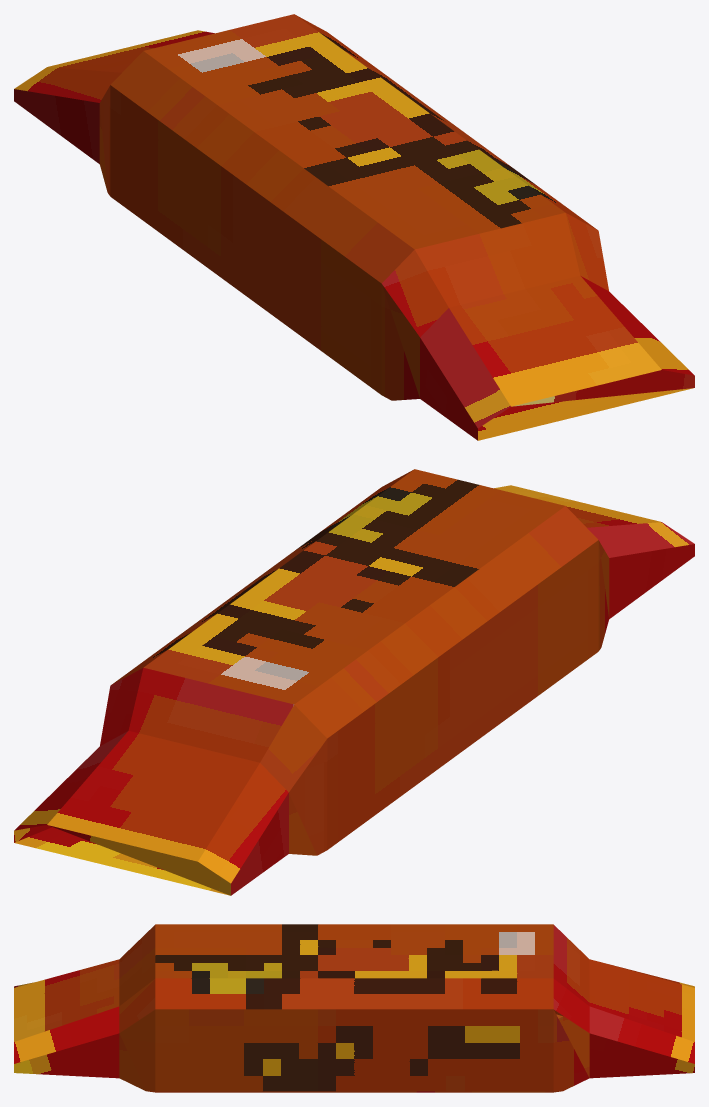
The model's file is balbeni.fbx.
The picture shows the model from 3 angles, top to bottom: view 1: azimuth 30°, elevation 25°; view 2: azimuth 150°, elevation 25°; view 3: azimuth 270°, elevation 25°; orthographic projection. The views are drawn at different scales.
Parts seen in each view (by area): view 1: Cube; view 2: Cube; view 3: Cube.
Boxes of the visible parts, bbox=[...] form: Cube: bbox=[14, 14, 694, 440]; Cube: bbox=[14, 469, 694, 895]; Cube: bbox=[14, 924, 694, 1092].
Size of the model in its own units: 62.5 by 39.61 by 232.
1 material, 1 textured.
